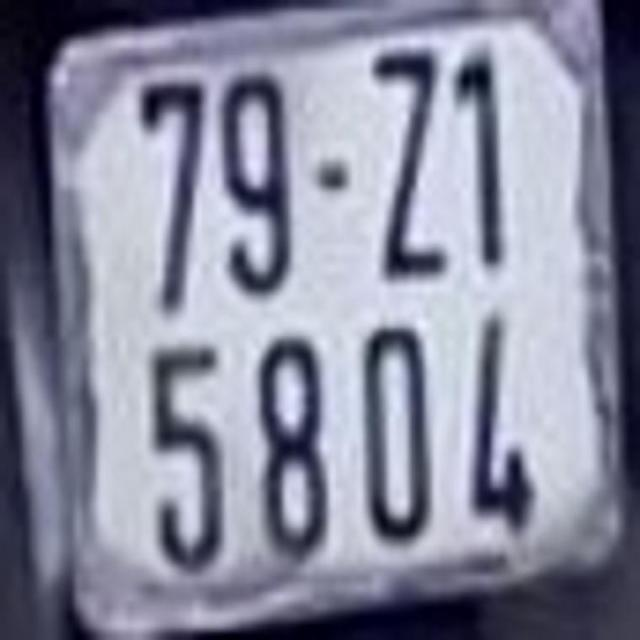0: (361, 323, 428, 536)
1: (456, 33, 502, 265)
4: (462, 308, 534, 532)
5: (152, 339, 231, 568)
7: (136, 79, 203, 312)
8: (259, 329, 333, 562)
9: (220, 73, 295, 290)
Z: (369, 48, 449, 274)
